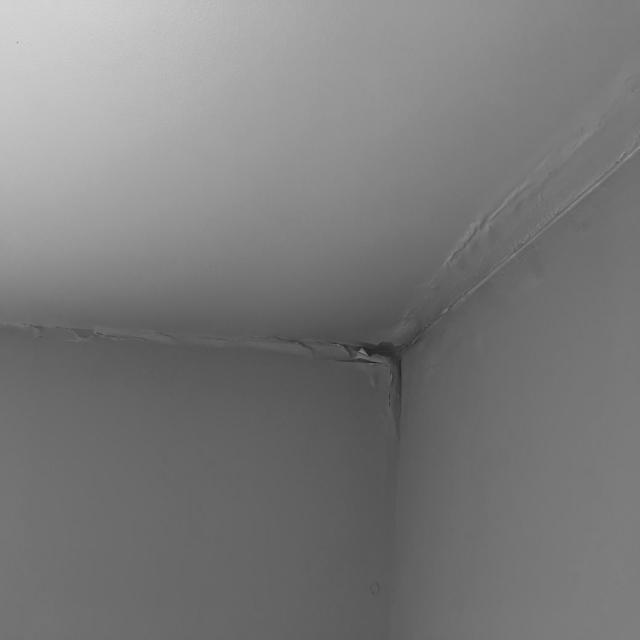peeling paint: (0, 59, 640, 460)
